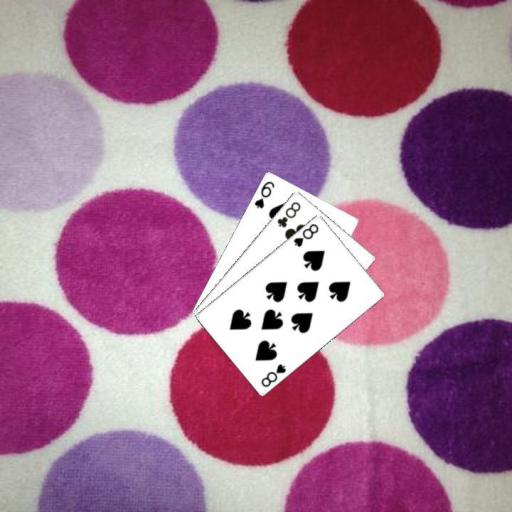6S: (251, 178, 276, 210)
8C: (274, 198, 302, 229)
8S: (290, 220, 320, 248), (258, 360, 287, 388)
